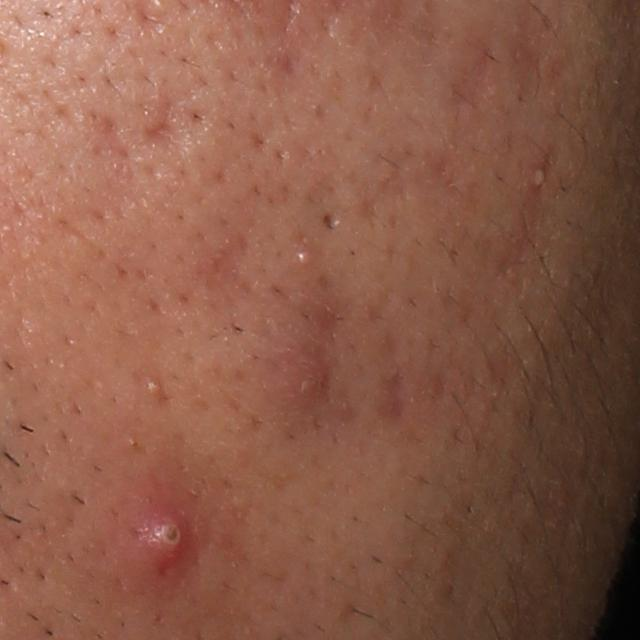atrophic_scar: (141, 88, 201, 155), (89, 108, 141, 179), (450, 49, 491, 111), (370, 372, 414, 424), (322, 212, 337, 234)
comedo: (297, 246, 315, 274)
papule: (267, 343, 338, 413)
pustule: (143, 506, 200, 568)
